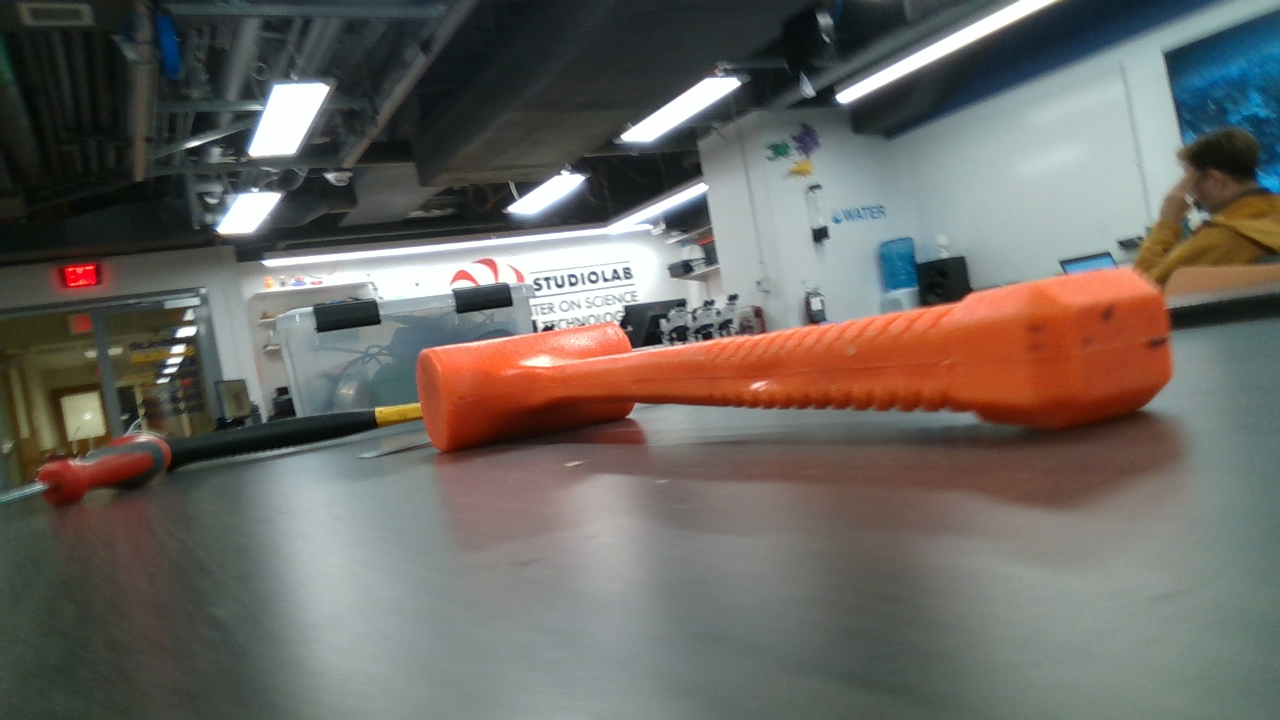Orange Hammer: (425, 267, 1170, 451)
